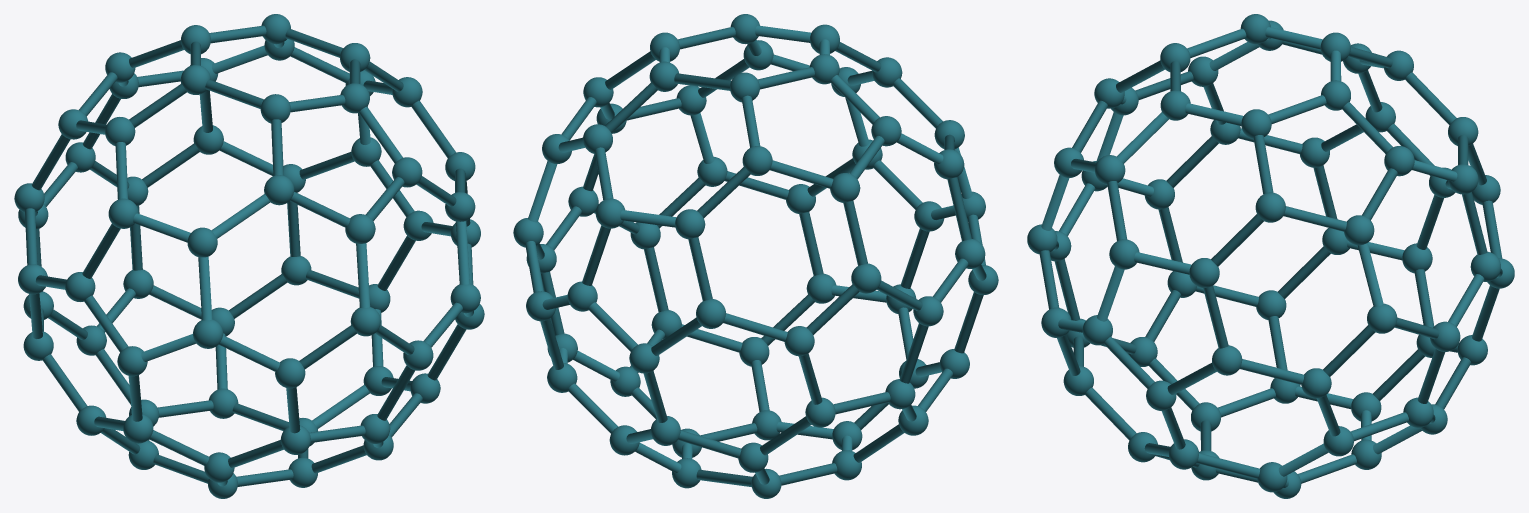
3 renders of one model, left to right at view 1: azimuth 30°, elevation 25°; view 2: azimuth 150°, elevation 25°; view 3: azimuth 270°, elevation 25°, orthographic.
Visible parts, largest first — view 1: carbon-bonds, carbon-atoms, soccer-pattern; view 2: carbon-bonds, carbon-atoms, soccer-pattern; view 3: carbon-bonds, carbon-atoms, soccer-pattern.
Part boxes in pixels (left/top/right/bottom): carbon-bonds: left=25, top=25, right=473, bottom=486; carbon-atoms: left=14, top=14, right=484, bottom=498; soccer-pattern: left=275, top=157, right=480, bottom=454; carbon-bonds: left=525, top=25, right=986, bottom=486; carbon-atoms: left=513, top=14, right=998, bottom=498; soccer-pattern: left=676, top=40, right=944, bottom=314; carbon-bonds: left=1039, top=27, right=1502, bottom=487; carbon-atoms: left=1081, top=14, right=1514, bottom=498; soccer-pattern: left=1027, top=147, right=1139, bottom=395.
Bounding box in the file's own units: 0.0732 × 0.0713 × 0.0743.
